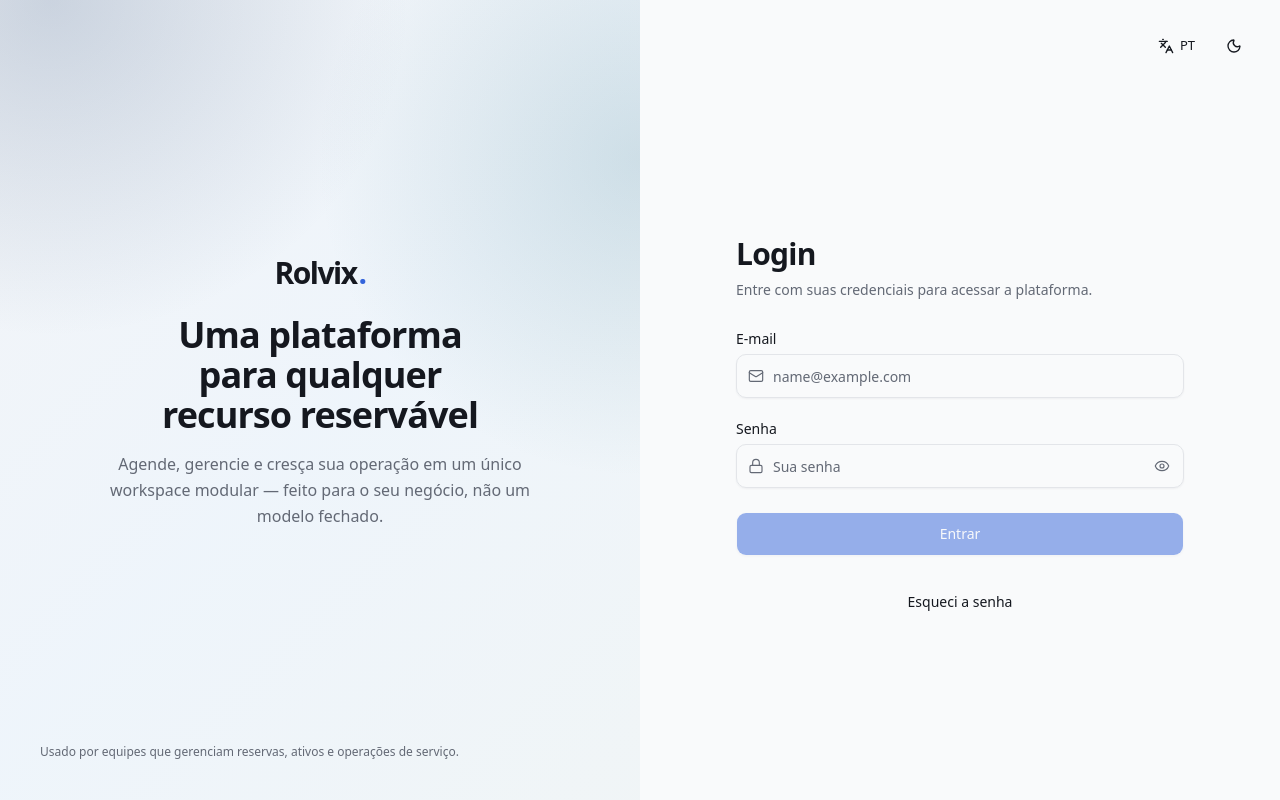
it: LoginPage forgot password › sends X-Tenant-Subdomain from a tenant host on the B2B login
This screenshot has width=1280, height=800.
Type "ana@club.test" into the field labelled "E-mail".
click(960, 376); type("ana@club.test")  # box left=736, top=354, right=1184, bottom=398
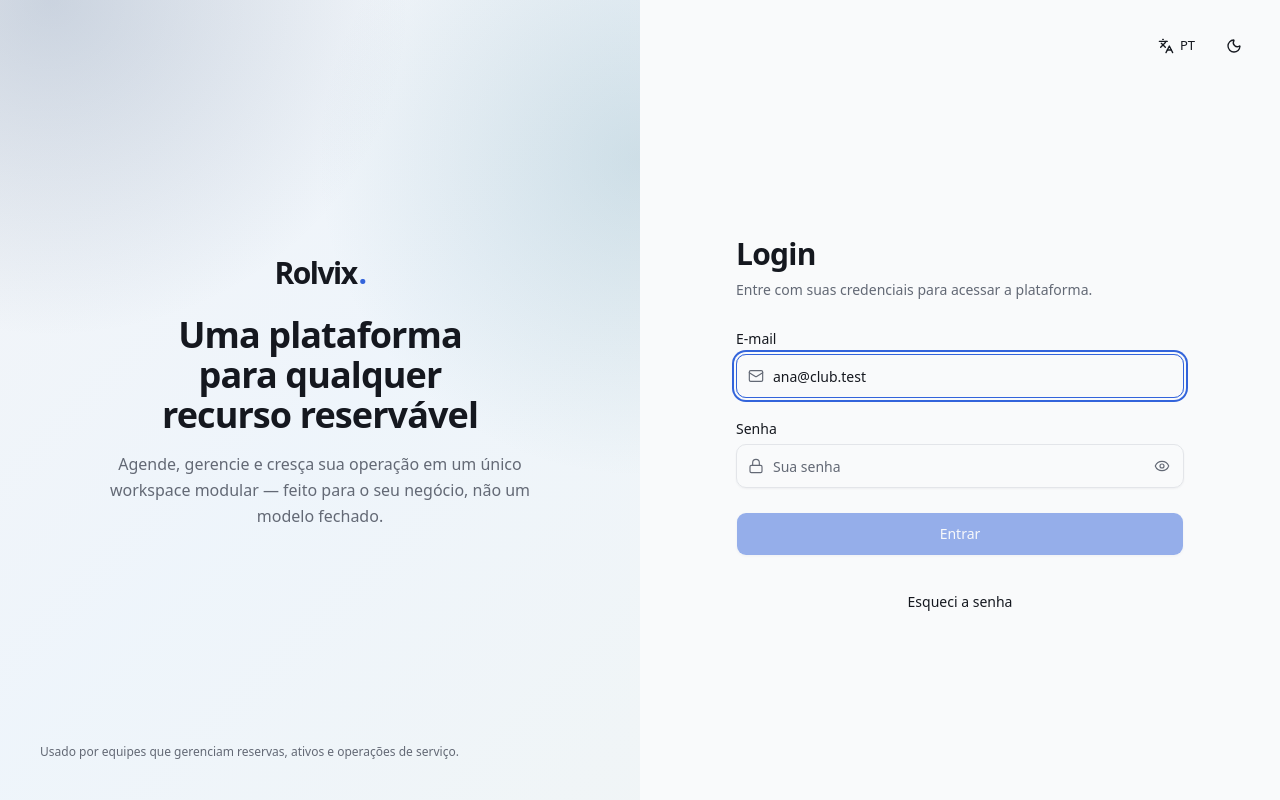
Click the button "Esqueci a senha".
click(960, 602)  # box left=736, top=580, right=1184, bottom=624
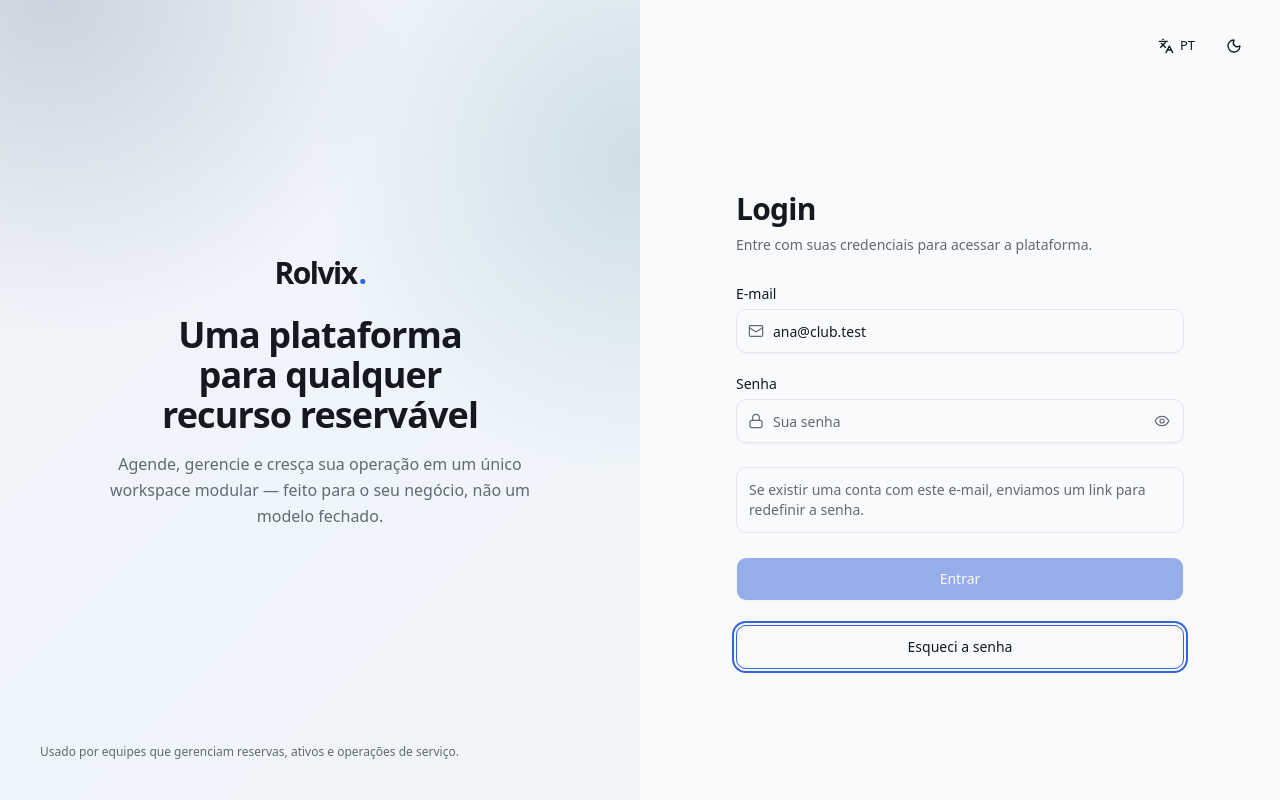
Now the message reads "Se existir uma conta com este e-mail, enviamos um link para redefinir a senha.", box left=749, top=480, right=1146, bottom=519
